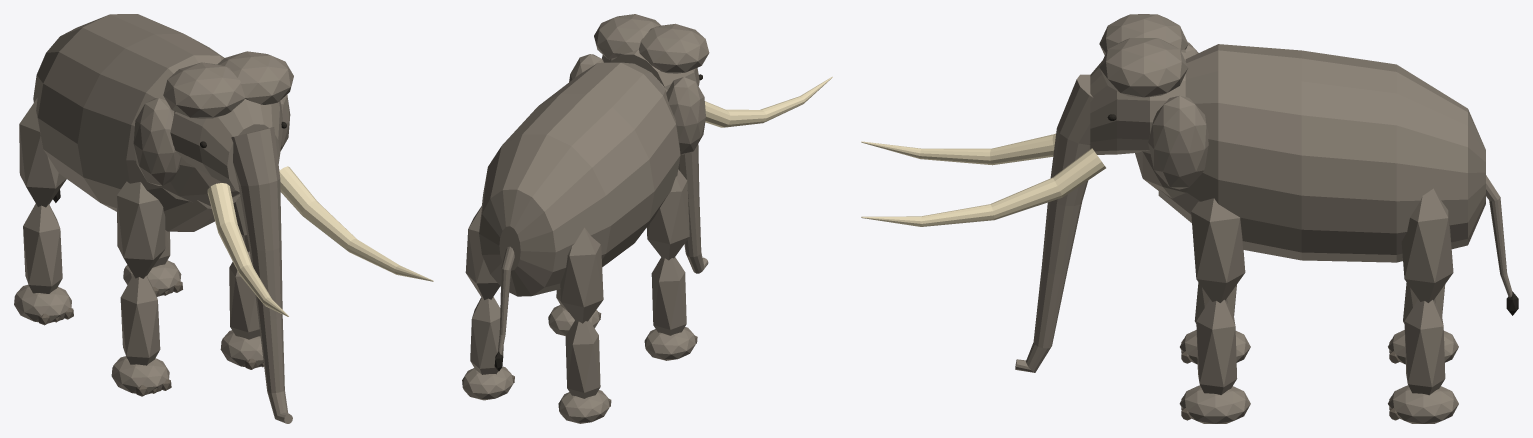
3 renders of one model, left to right at view 1: azimuth 30°, elevation 25°; view 2: azimuth 150°, elevation 25°; view 3: azimuth 270°, elevation 25°, orthographic. The views are drawn at different scales.
Parts seen in each view (by area): view 1: surface_warm_gray_skin, surface_ivory_tusks, surface_muted_nails; view 2: surface_warm_gray_skin, surface_ivory_tusks; view 3: surface_warm_gray_skin, surface_ivory_tusks.
Boxes of the visible parts, x1,y1,x2,y2 form: surface_warm_gray_skin: (14,14,293,423); surface_ivory_tusks: (207,166,433,316); surface_muted_nails: (38,281,263,396); surface_warm_gray_skin: (462,14,709,423); surface_ivory_tusks: (705,76,832,127); surface_warm_gray_skin: (1015,14,1512,423); surface_ivory_tusks: (861,133,1105,226).
Bounding box in the file's own units: 0.2939 × 0.607 × 1.
